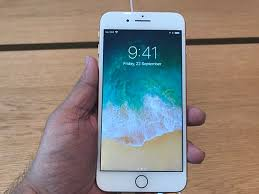iphone: (97, 8, 188, 194)
iphone8: (95, 7, 186, 193)
